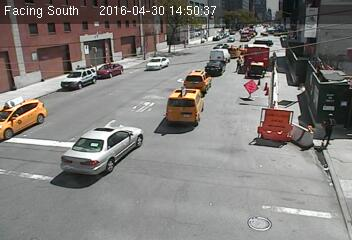neg: (58, 104, 91, 148), (202, 57, 224, 87), (167, 90, 185, 113), (127, 79, 143, 100)
pos: (313, 109, 341, 146), (230, 52, 249, 77)
